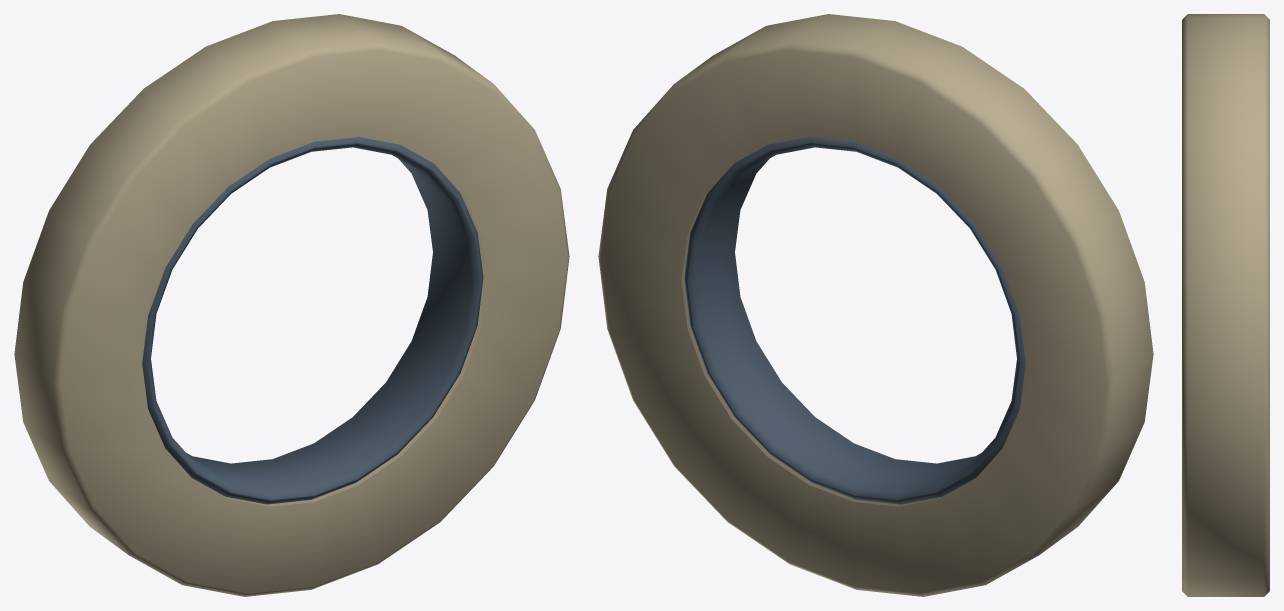
File: anchor_eye.glb
3 views of the same model, side by side, from view 1: azimuth 30°, elevation 25°; view 2: azimuth 150°, elevation 25°; view 3: azimuth 270°, elevation 25° (orthographic).
Parts seen in each view (by area): view 1: Hardware; view 2: Hardware; view 3: Hardware.
Part boxes in pixels (x1,y1,x2,y2): Hardware: [14, 14, 569, 596]; Hardware: [598, 14, 1153, 596]; Hardware: [1182, 14, 1269, 596].
Size of the model in its own units: 3 by 3 by 0.45.
